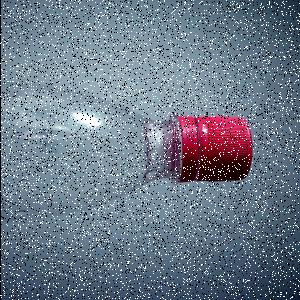Plastic-bottle: (2, 83, 254, 223)
